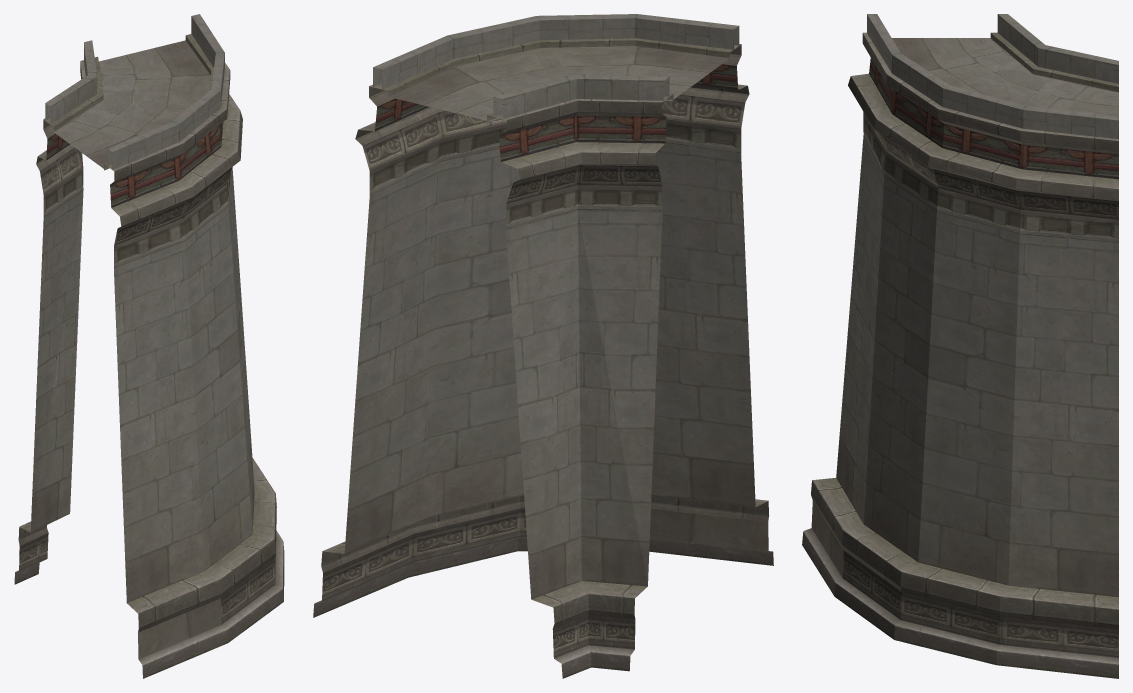
Rendered from zc_chengqiang02_54_02_5881out.fbx.
3 views of the same model, side by side, from view 1: azimuth 30°, elevation 25°; view 2: azimuth 150°, elevation 25°; view 3: azimuth 270°, elevation 25° (orthographic). The views are drawn at different scales.
Parts seen in each view (by area): view 1: zc_chengqiang02; view 2: zc_chengqiang02; view 3: zc_chengqiang02.
Part boxes in pixels (<box>): zc_chengqiang02: <box>14,14,284,678</box>; zc_chengqiang02: <box>313,14,773,678</box>; zc_chengqiang02: <box>802,14,1118,678</box>.
Size of the model in its own units: 2.53 by 4.69 by 2.53.
